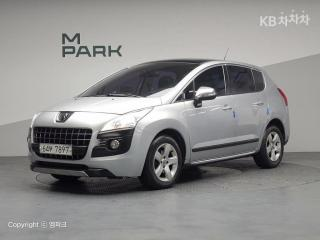4: (46, 145, 49, 152)
6: (42, 145, 46, 152)
7: (65, 146, 70, 153), (55, 145, 58, 153)
8: (58, 145, 62, 153)
9: (62, 146, 65, 154)
plate: (36, 140, 77, 159)
부: (49, 145, 54, 152)
